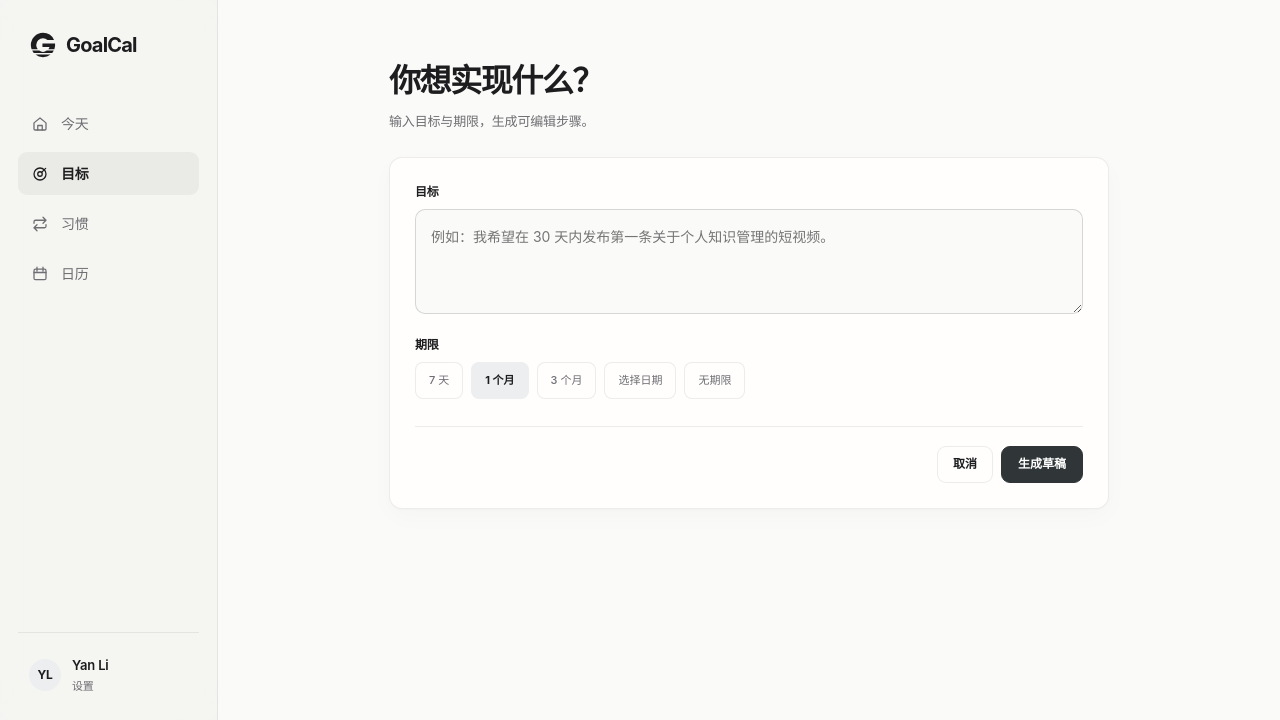
GoalCal critical interactions › honestly discloses template fallback in New Goal draft and uses step proposal on save+schedule
Type "学会做播客" into the text box labelled "目标" at (749,262), box x1=415 y1=209 x2=1083 y2=314
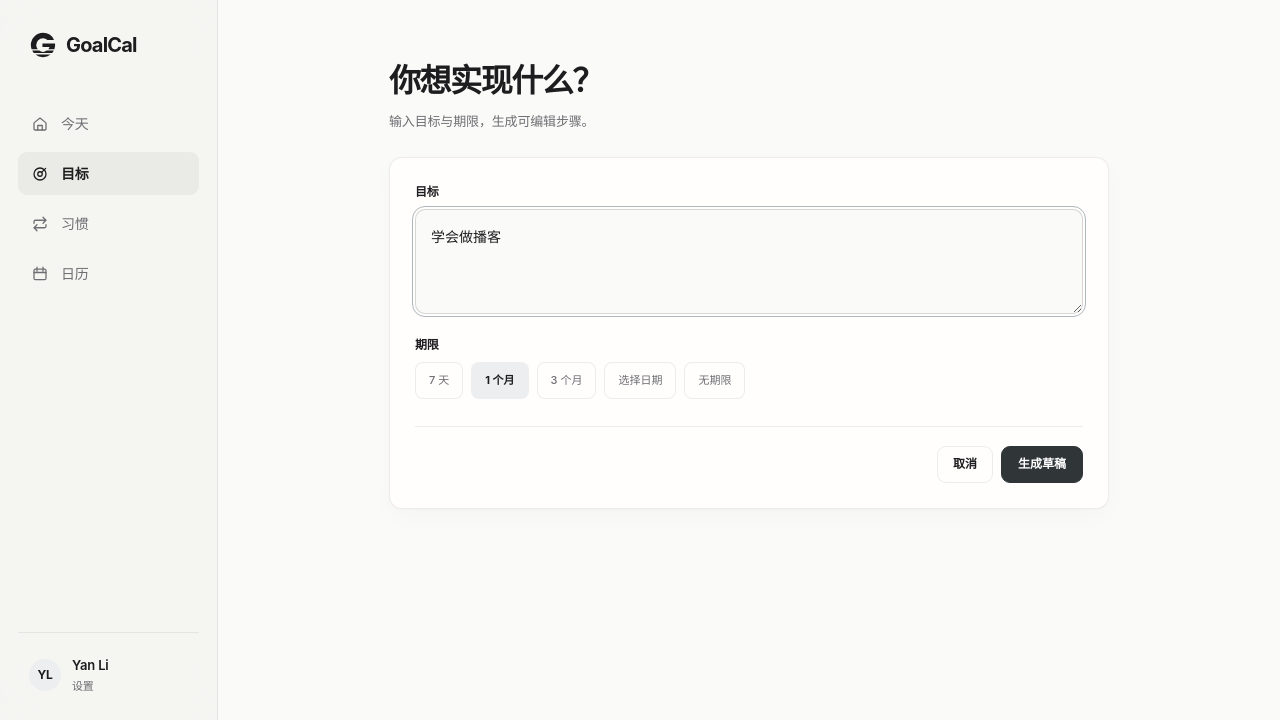
Click the button "生成草稿" at (1042,464), box x1=1001 y1=446 x2=1083 y2=483
(page scrolled)
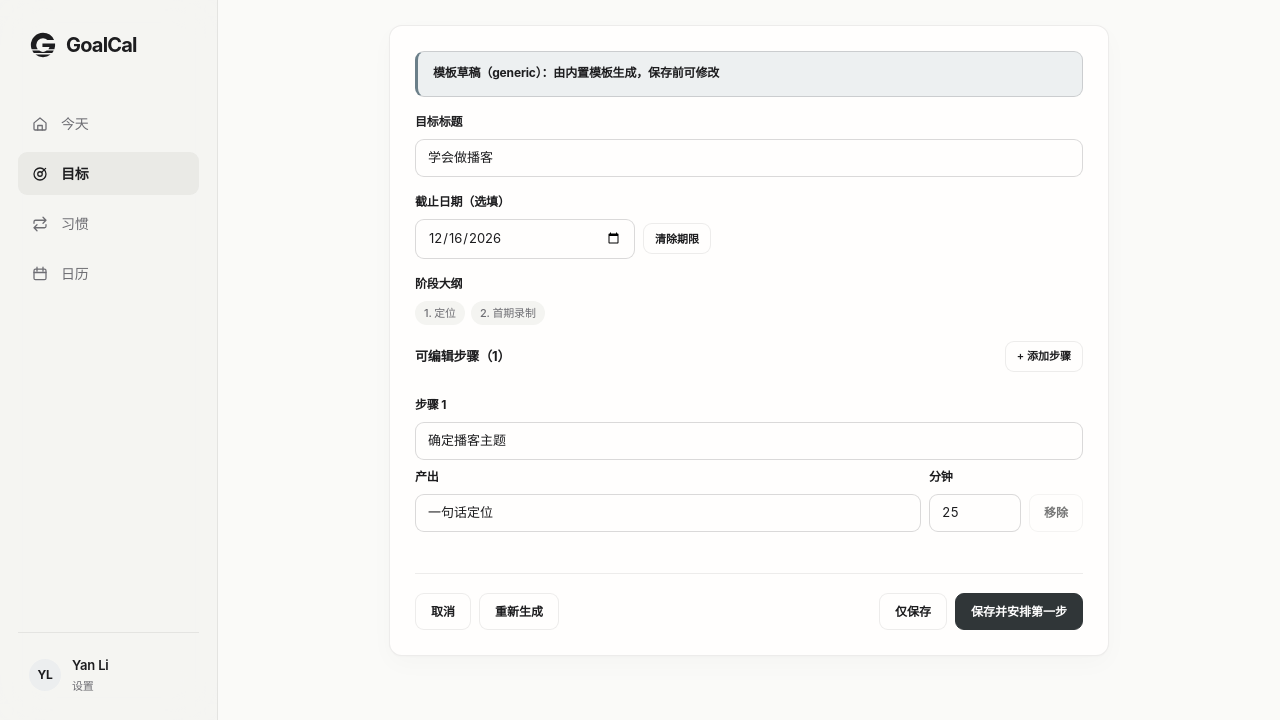
Check: the text "模板草稿（generic）：由内置模板生成，保存前可修改" is shown, box x1=433 y1=65 x2=719 y2=80
Click the button "保存并安排第一步" at (1019,612), box x1=955 y1=593 x2=1083 y2=630
(page scrolled)
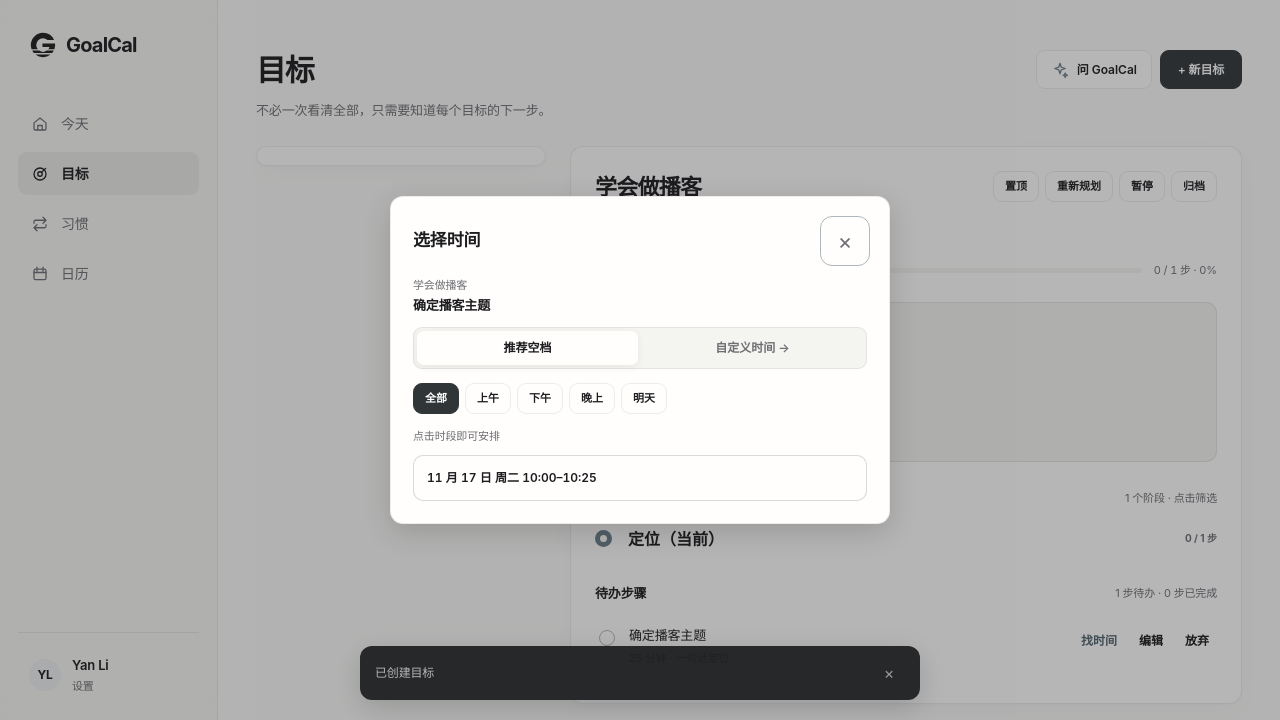
Check: the dialog "选择时间" is shown, box x1=390 y1=196 x2=890 y2=524
